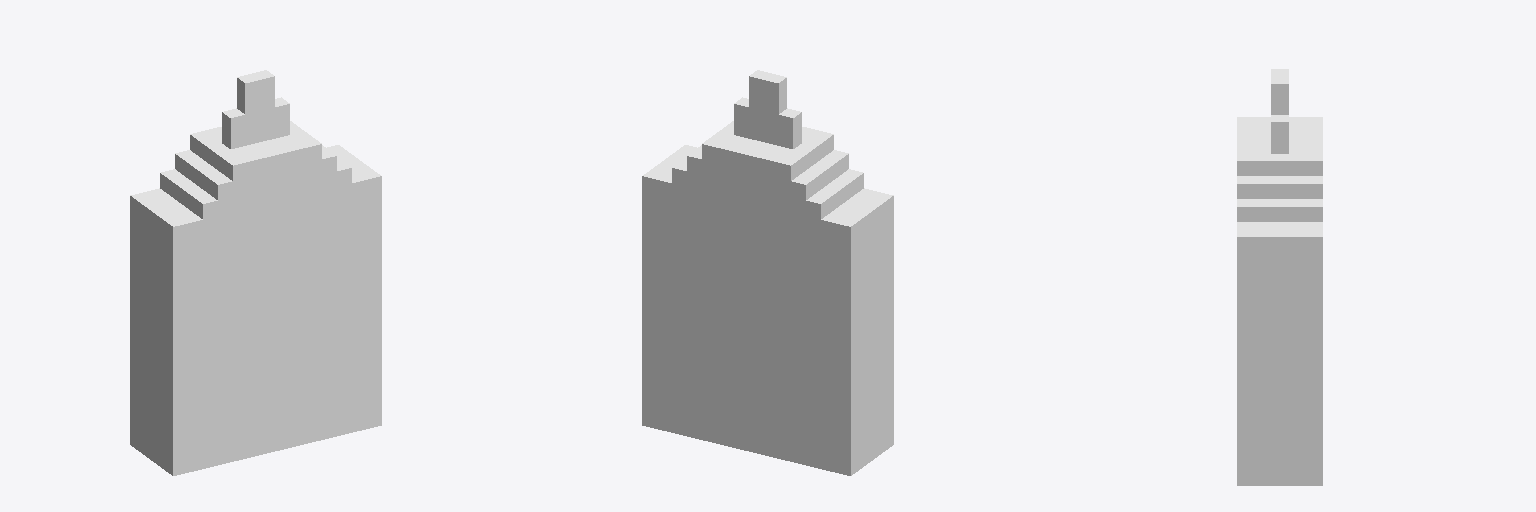
Rendered from backstone.obj.
The picture shows the model from 3 angles: view 1: azimuth 30°, elevation 25°; view 2: azimuth 150°, elevation 25°; view 3: azimuth 270°, elevation 25°; orthographic projection.
Parts seen in each view (by area): view 1: object 1; view 2: object 1; view 3: object 1.
Part boxes in pixels (left/top/right/bottom): object 1: left=130, top=70, right=381, bottom=475; object 1: left=642, top=70, right=893, bottom=475; object 1: left=1237, top=69, right=1322, bottom=485.
Size of the model in its own units: 1.4 by 2.3 by 0.5.